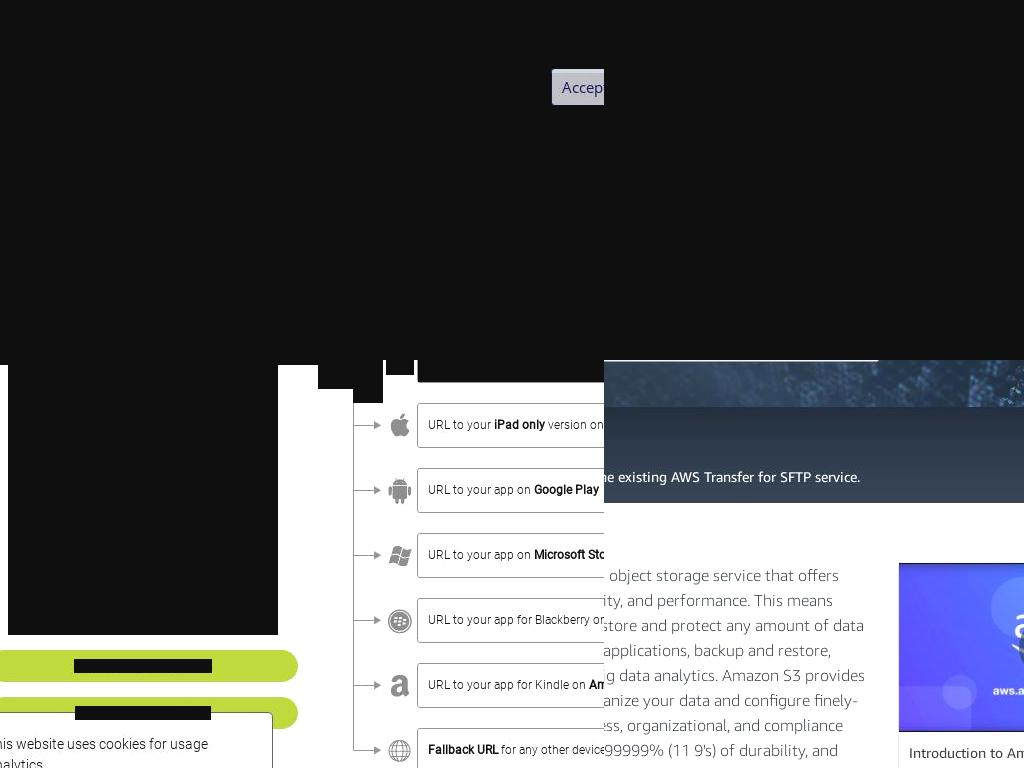button: (604, 407, 1024, 503), (1, 0, 604, 39), (551, 69, 604, 105)
field: (418, 404, 604, 447), (418, 469, 604, 512), (418, 534, 604, 577), (418, 599, 604, 642), (418, 664, 604, 707), (418, 729, 604, 768)
heading: (134, 118, 433, 187), (134, 228, 604, 270), (604, 441, 862, 466)
iframe: (898, 563, 1024, 733)
image: (0, 0, 604, 360), (604, 0, 1024, 360), (8, 365, 278, 635), (898, 563, 1024, 733), (953, 89, 1024, 128), (353, 403, 383, 468), (353, 468, 383, 533), (353, 533, 383, 598), (353, 598, 383, 663), (353, 663, 383, 728), (353, 360, 383, 403), (353, 728, 383, 768), (318, 360, 354, 389), (386, 412, 414, 440), (386, 477, 414, 505), (386, 542, 414, 570), (386, 607, 414, 635), (386, 672, 414, 700), (386, 737, 414, 765), (386, 360, 414, 375)
label: (955, 0, 1024, 15)
link: (970, 128, 1024, 144), (960, 36, 995, 48)
text: (604, 565, 865, 768), (134, 273, 604, 296), (0, 735, 208, 768), (604, 466, 862, 488), (101, 0, 604, 10), (604, 422, 862, 441), (908, 742, 1024, 765), (428, 613, 604, 627), (428, 678, 589, 692), (74, 659, 212, 673), (75, 706, 211, 720), (0, 360, 333, 365), (428, 483, 534, 497), (428, 548, 534, 562), (498, 743, 604, 757), (534, 548, 604, 562), (428, 743, 498, 757), (428, 418, 494, 432), (534, 483, 599, 497), (545, 418, 604, 432), (428, 360, 534, 367), (494, 418, 545, 432), (35, 0, 102, 10), (534, 360, 604, 367)
